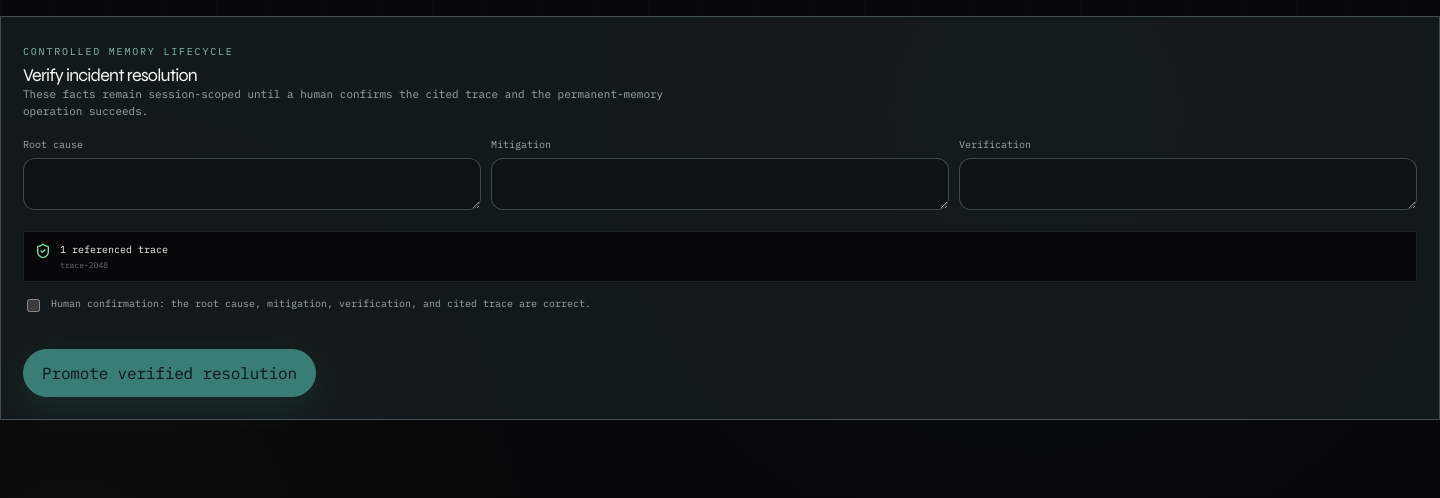
Test: requires verified fields and prevents duplicate promotion while pending
Check: the button "Promote verified resolution" is disabled, box [23, 349, 316, 397]
Type "A global killswitch exposed nil handling in FL1." into the text box labelled "Root cause". click: (252, 184)
box: [23, 158, 481, 210]
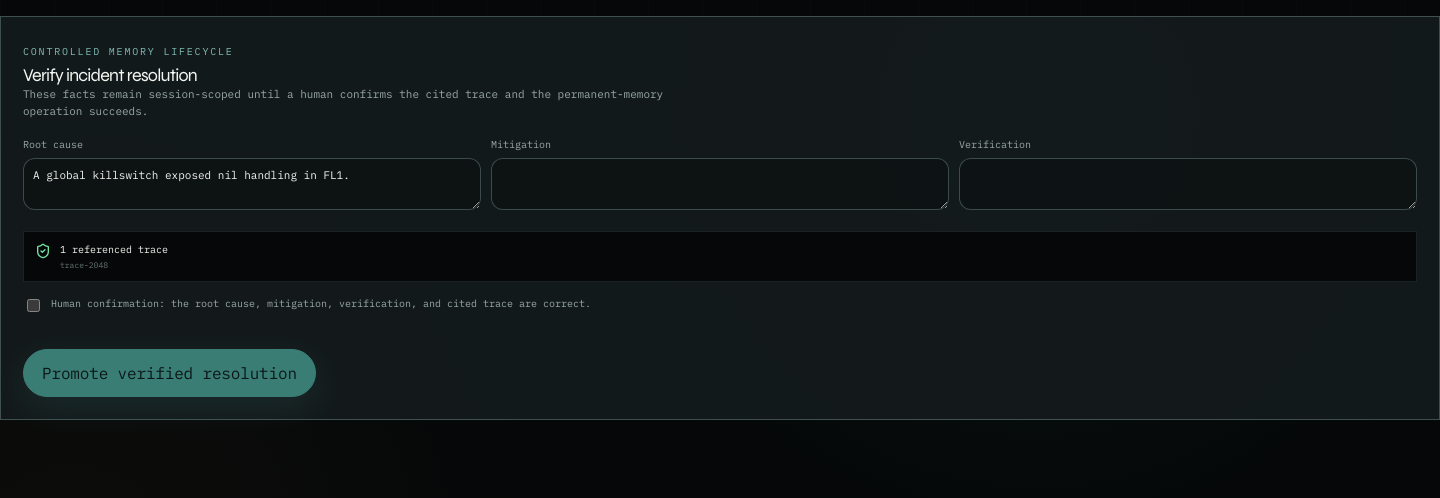
Type "Rolled back TTL configuration and reissued sessions." into the text box labelled "Mitigation". click: (720, 184)
box: [491, 158, 949, 210]
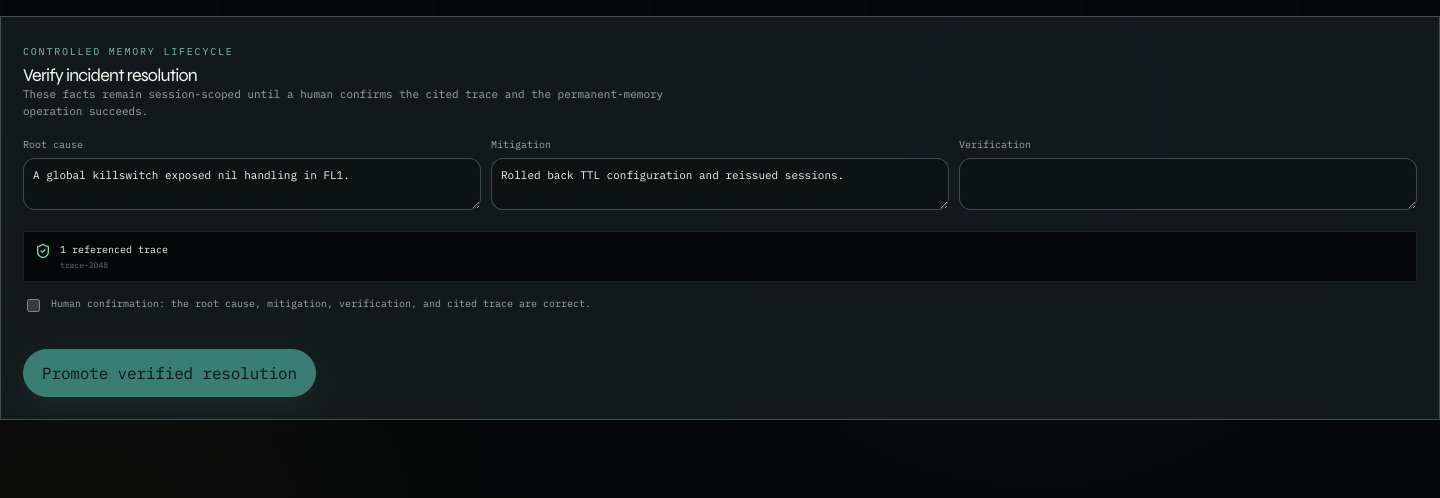
Type "Traffic was fully restored by 09:12 UTC." into the text box labelled "Verification". click: (1188, 184)
box: [959, 158, 1417, 210]
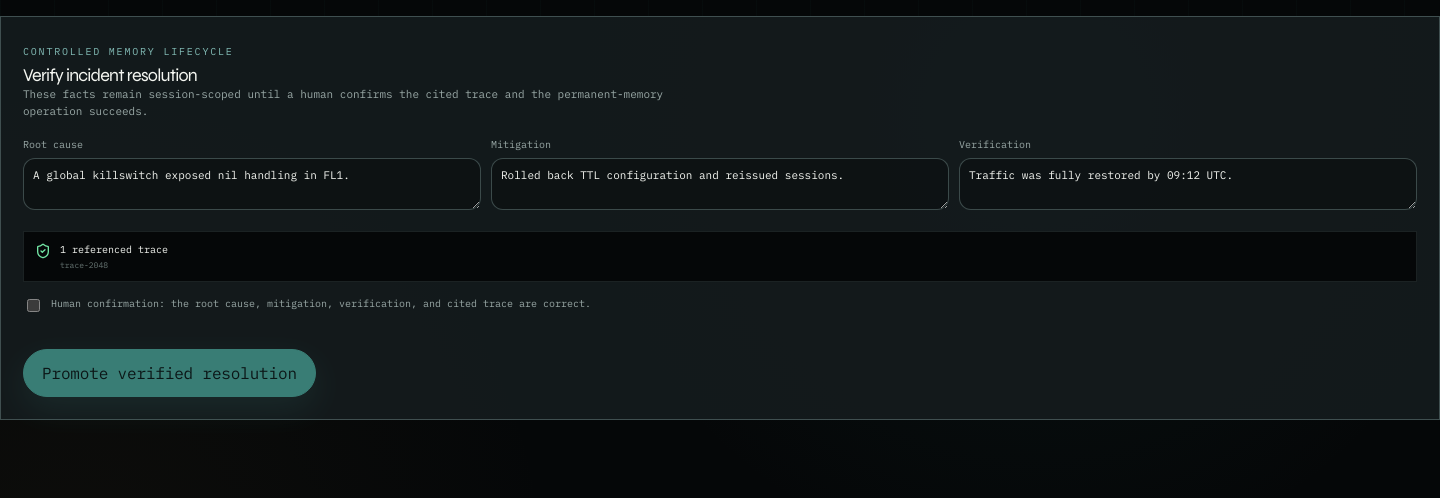
Click the checkbox labelled "Human confirmation". click: (34, 306)
box: [27, 299, 40, 312]
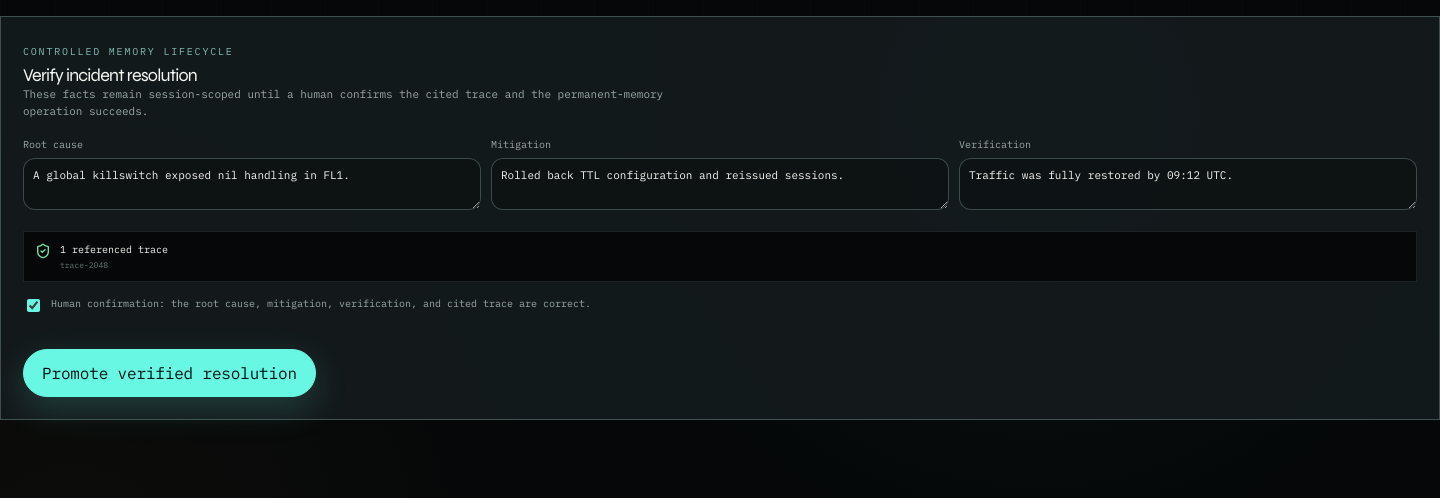
Click the button "Promote verified resolution". click: (169, 373)
box: [23, 349, 316, 397]
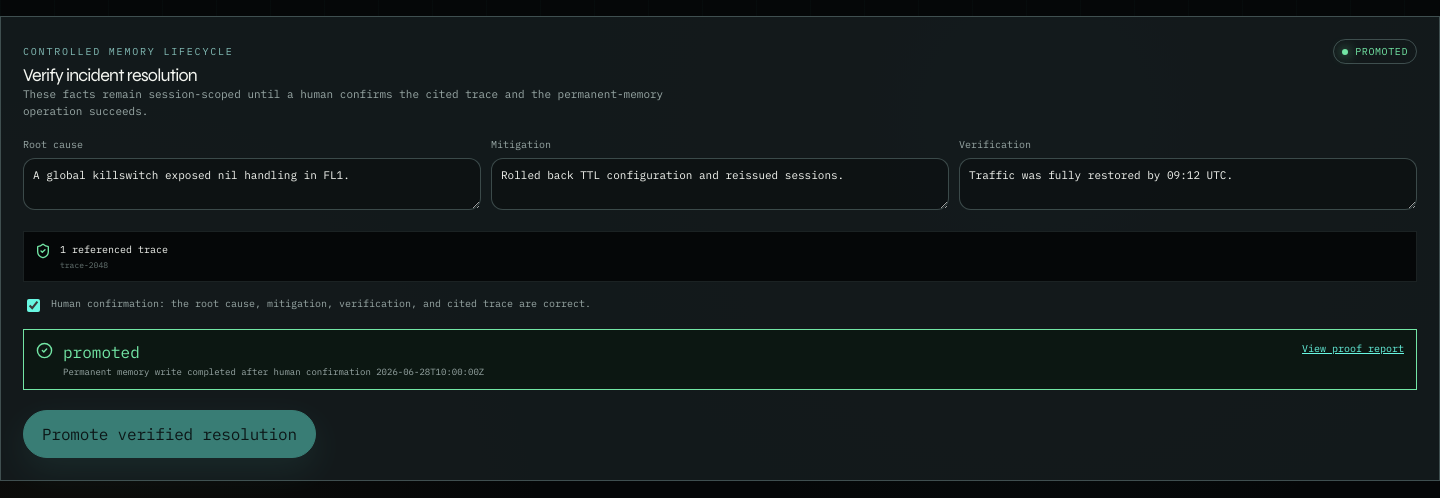
Check: the button "Promote verified resolution" is disabled, box [23, 410, 316, 458]
Check: the text "promoted" is shown, box [1333, 39, 1417, 64]
Check: the text "Permanent memory write completed" is shown, box [63, 366, 371, 377]
